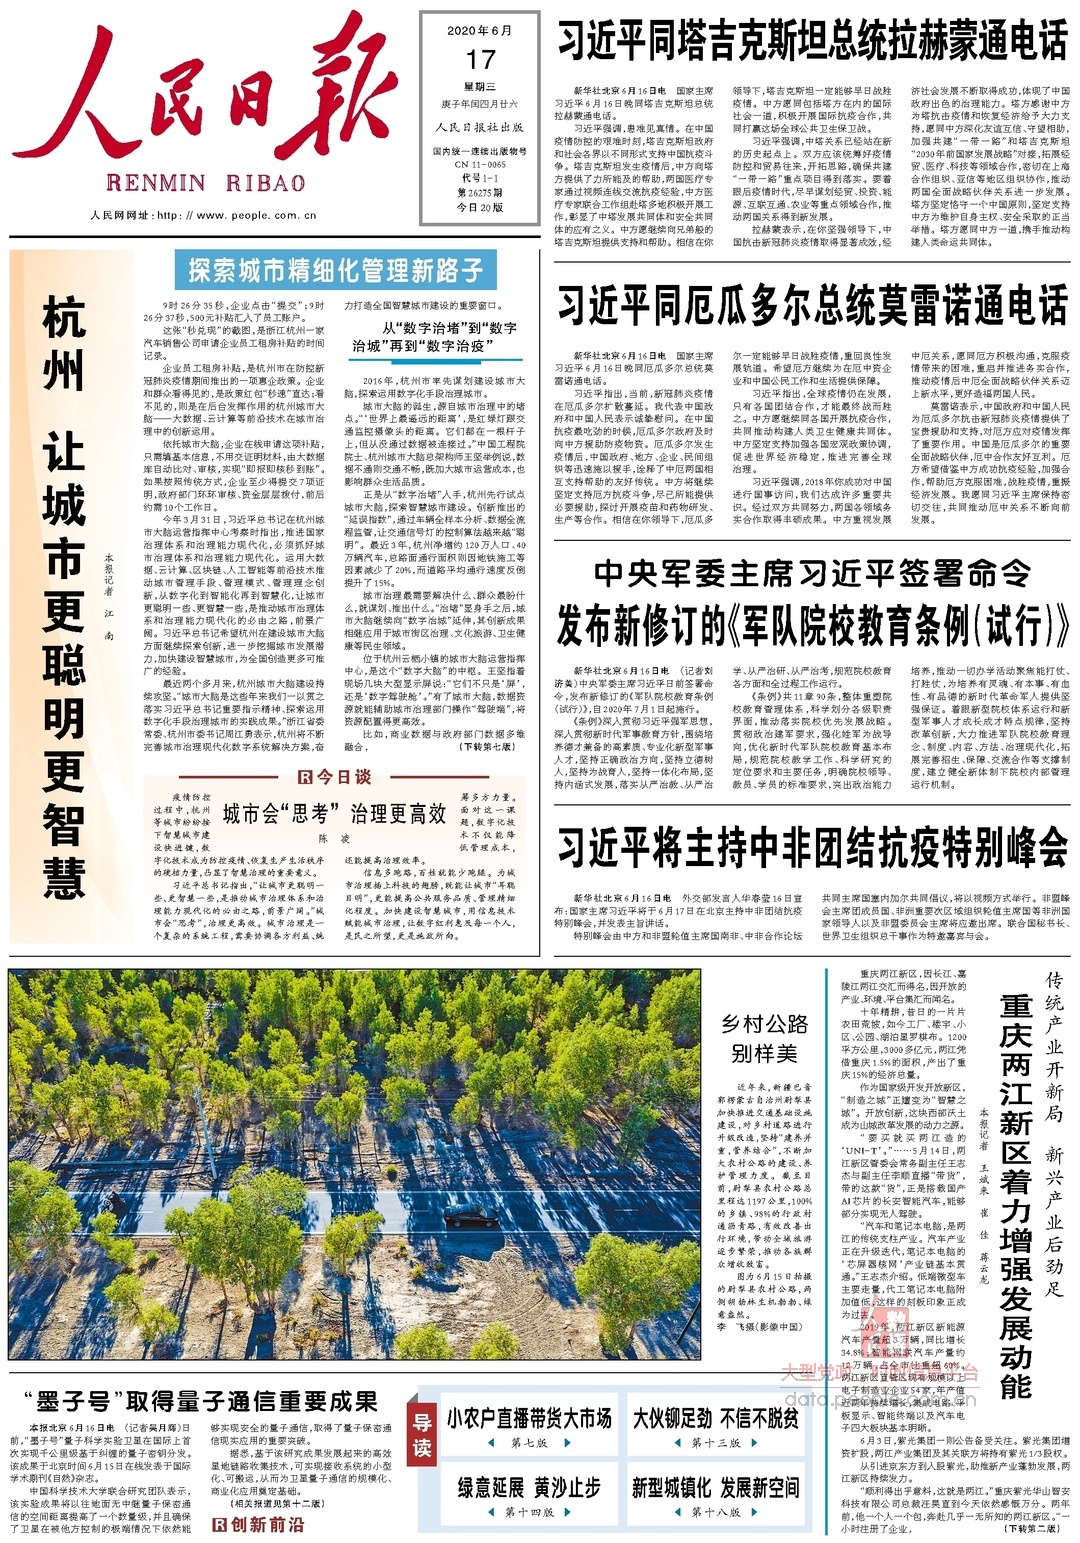pic: (4, 961, 708, 1367)
